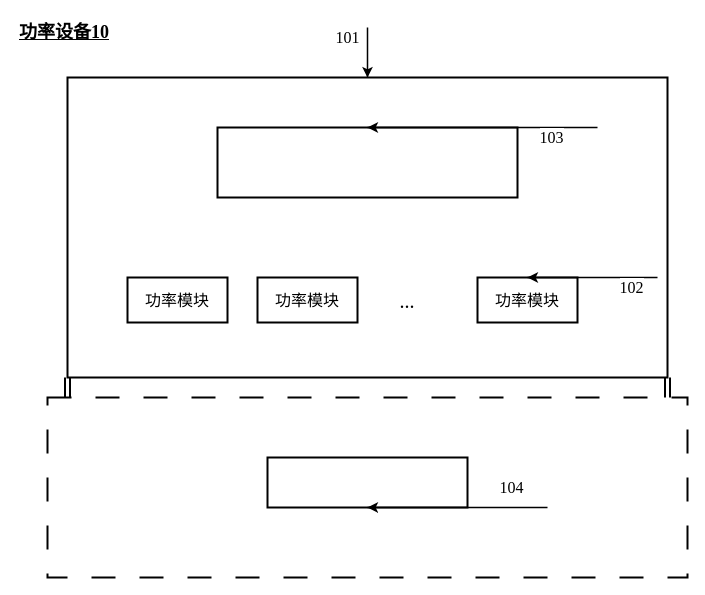
Some shapes in this 705 by 595 pixel diagram are drawn without their labels. Each missing label, with the centre of its shape:
控制器: [367,162]
散热风扇: [367,482]
